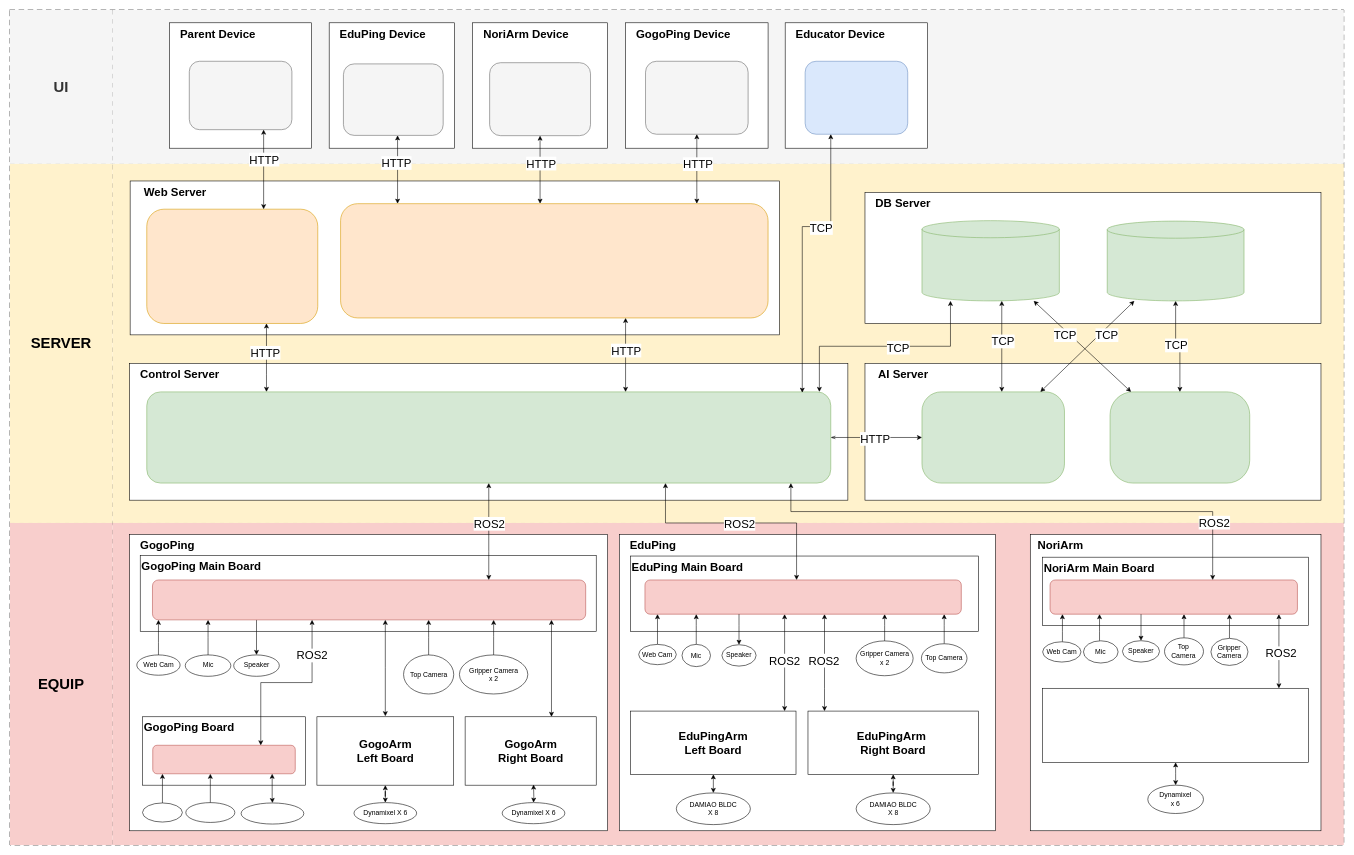
Some shapes in this 1354 by 855 pixel diagram are drawn without their labels. Each missing label, with the centre of its shape:
AI Hub: the point at 992,437
AI Worker: the point at 1180,437
Battery: the point at 162,812
Control DB: the point at 990,260
Control Service: the point at 488,437
DC Motor X 2: the point at 272,813
Educator UI: the point at 856,97
EduPing Browser: the point at 393,99
eduping packages: the point at 802,596
GogoPing Browser: the point at 696,97
gogoping packages, omx packages: the point at 369,599
NoriArm Board: the point at 1175,725
NoriArm Browser: the point at 540,99
noriarm packages, omx packages: the point at 1173,596
Object Storage: the point at 1175,261
Parent Browser: the point at 240,95
Parent Web Server: the point at 232,266
Robot Web Server: the point at 554,260
RPLiDAR C1: the point at 210,812
vicpinky packages: the point at 223,759
